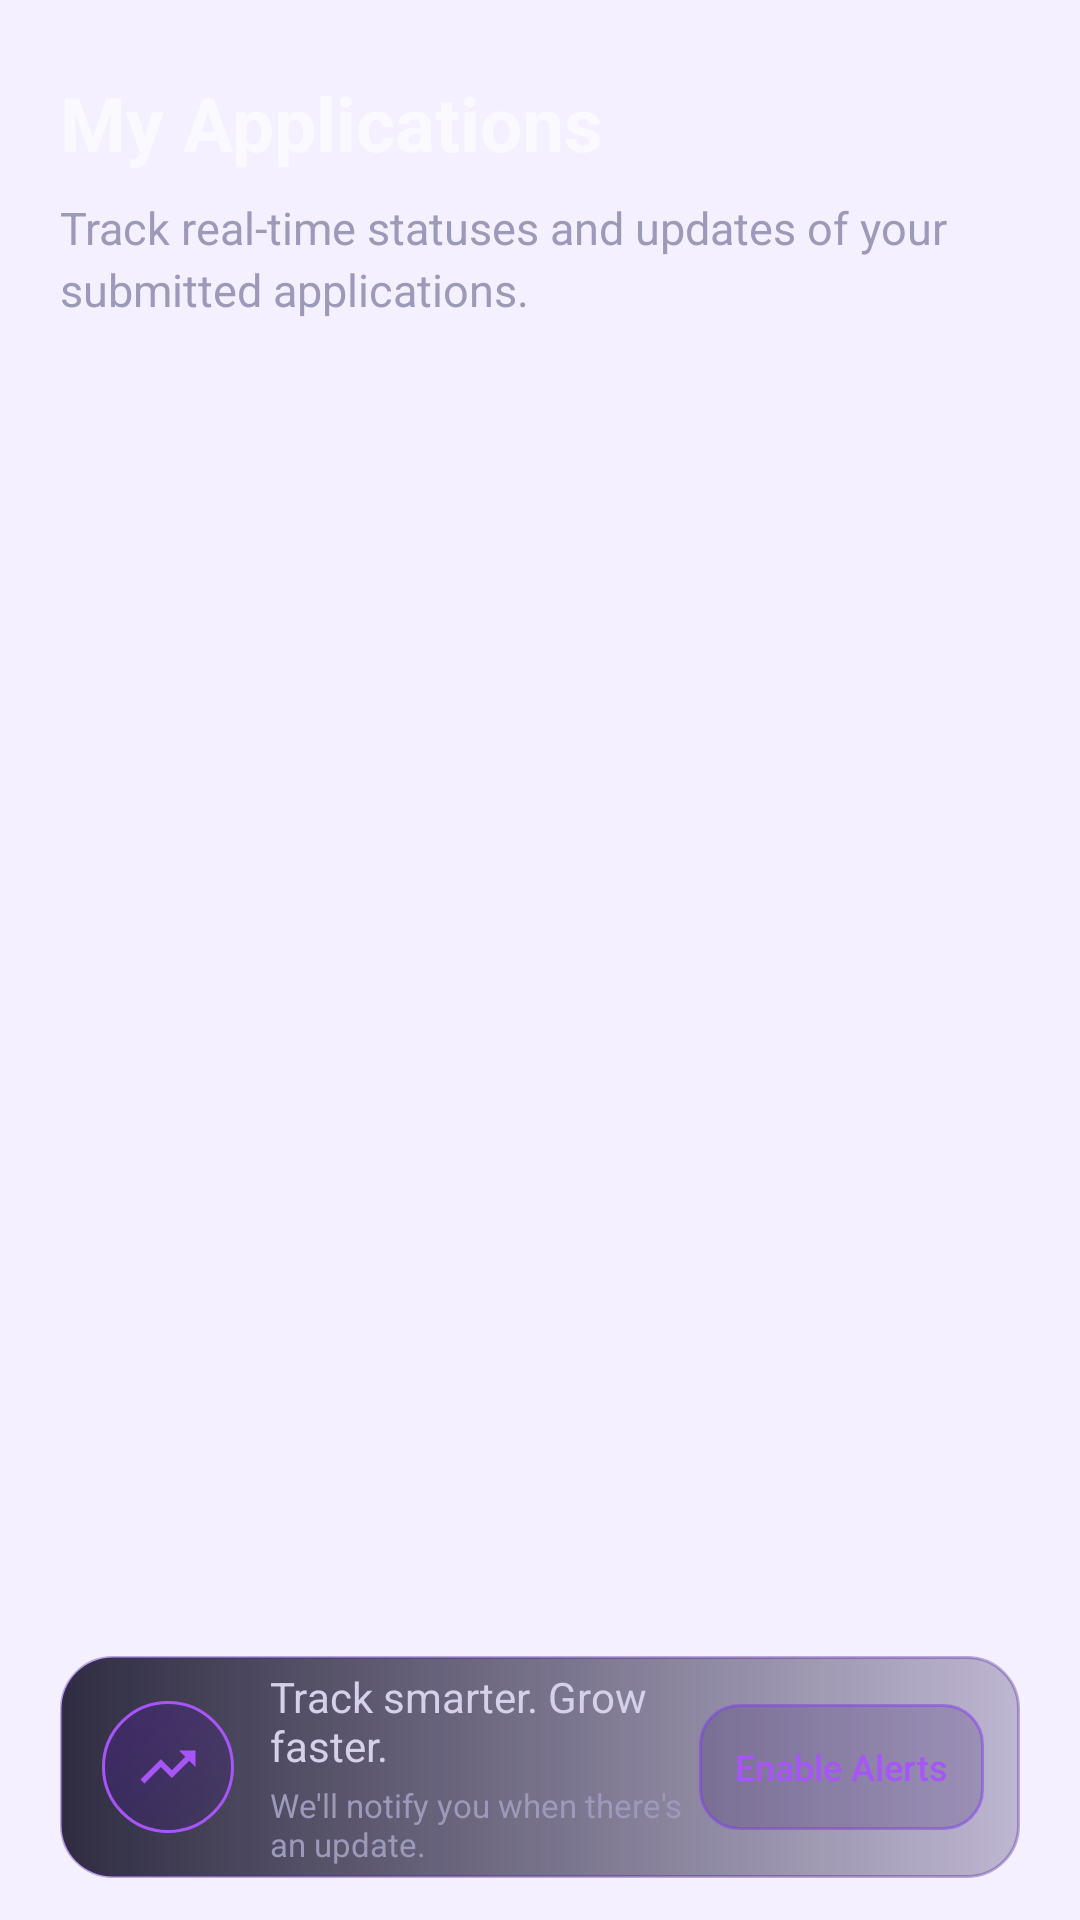

Named icons in this screenshot (1080px×1920px) and their bounding boxes, (x1, y1, x2, y2):
trend up: (102, 1701, 234, 1833)
